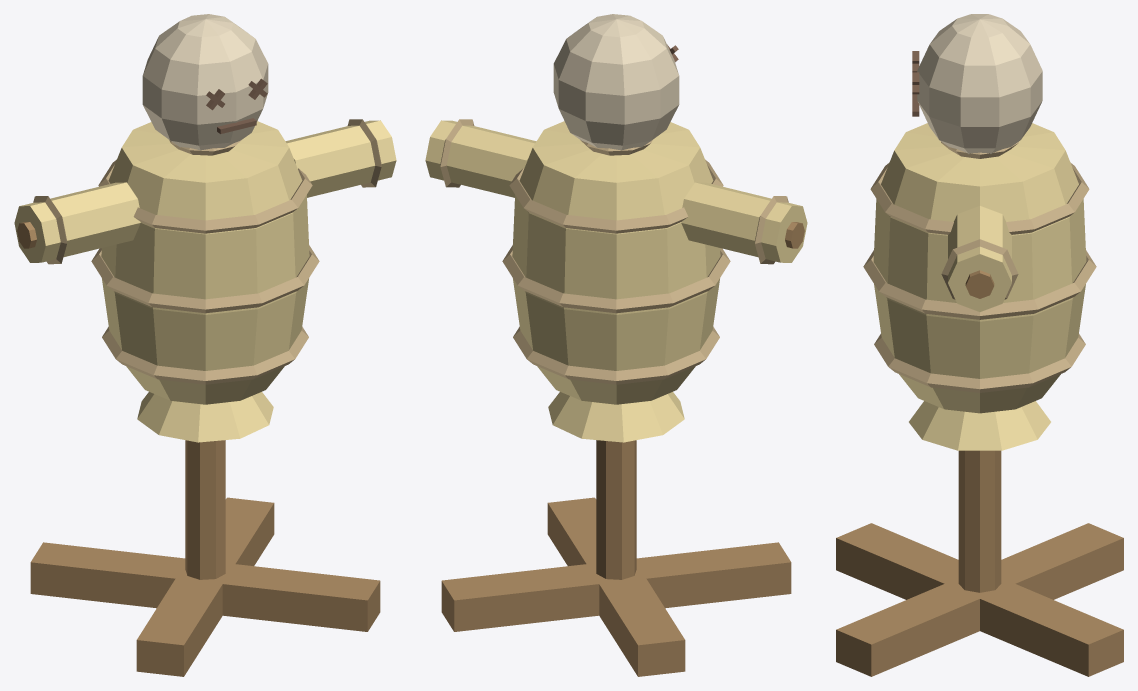
File: training_dummy.glb
3 renders of one model, left to right at view 1: azimuth 30°, elevation 25°; view 2: azimuth 150°, elevation 25°; view 3: azimuth 270°, elevation 25°, orthographic. The views are drawn at different scales.
Parts seen in each view (by area): view 1: training_dummy; view 2: training_dummy; view 3: training_dummy.
Part boxes in pixels (left/top/right/bottom): training_dummy: left=14, top=14, right=396, bottom=676; training_dummy: left=425, top=14, right=807, bottom=676; training_dummy: left=836, top=14, right=1123, bottom=676.
Size of the model in its own units: 1.2 by 1.85 by 0.8061.
